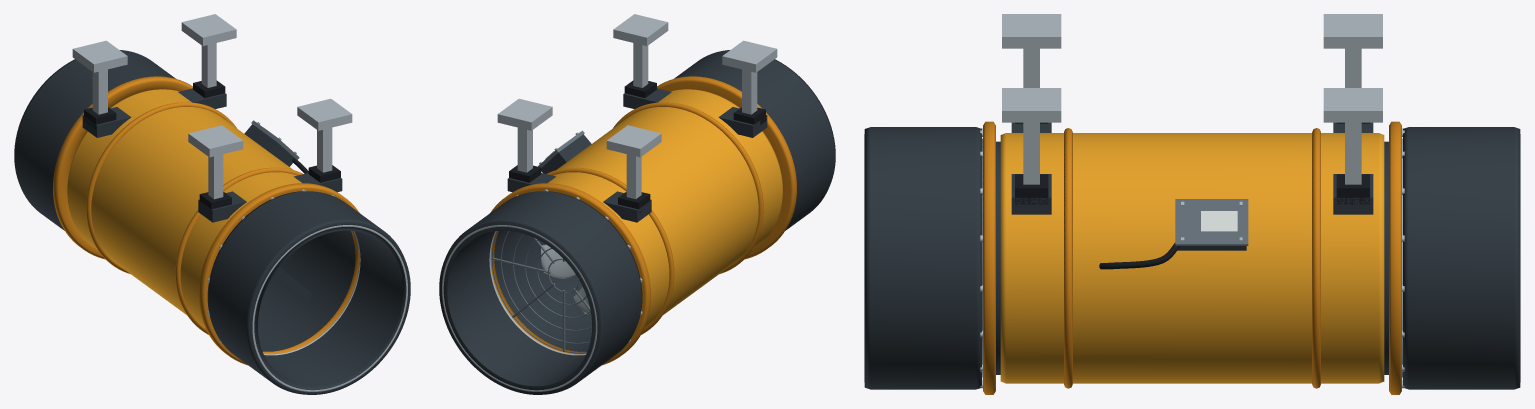
The model's file is ceiling-jet-fan.glb.
The picture shows the model from 3 angles, left to right: view 1: azimuth 30°, elevation 25°; view 2: azimuth 150°, elevation 25°; view 3: azimuth 270°, elevation 25°; orthographic projection. The views are drawn at different scales.
Parts seen in each view (by area): view 1: Tubular silencer (×2), Rolled metal body, Internal liner, Ceiling anchor plate (×4), Outlet bolted flange, Inlet bolted flange, Suspension link (×4), Circumferential stiffener (×2), Casing saddle crossbar (×2), Vibration isolator (×4), Rolled silencer rim, Terminal enclosure (+2 smaller); view 2: Tubular silencer (×2), Rolled metal body, Internal liner, Ceiling anchor plate (×4), Outlet bolted flange, Inlet bolted flange, Suspension link (×4), Circumferential stiffener (×2), Casing saddle crossbar (×2), Vibration isolator (×4), Rolled silencer rim, Terminal enclosure (+2 smaller); view 3: Rolled metal body, Tubular silencer (×2), Ceiling anchor plate (×4), Circumferential stiffener (×2), Inlet bolted flange, Outlet bolted flange, Suspension link (×4), Gasketed lid, Casing saddle crossbar (×2), Internal liner, Vibration isolator (×2), Nameplate (+1 smaller).
Boxes of the visible parts, x1,y1,x2,y2 form: Tubular silencer (×2): (14,50,410,394); Rolled metal body: (67,89,301,328); Internal liner: (258,230,355,351); Ceiling anchor plate (×4): (72,14,352,157); Outlet bolted flange: (199,183,359,365); Inlet bolted flange: (53,76,192,259); Suspension link (×4): (92,43,332,199); Circumferential stiffener (×2): (86,102,302,334); Casing saddle crossbar (×2): (82,88,342,222); Vibration isolator (×4): (84,80,340,209); Rolled silencer rim: (252,225,407,391); Terminal enclosure: (244,124,294,166); Tubular silencer (×2): (439,50,835,394); Rolled metal body: (548,89,782,328); Internal liner: (494,230,591,351); Ceiling anchor plate (×4): (497,14,777,157); Outlet bolted flange: (657,76,796,259); Inlet bolted flange: (490,183,650,365); Suspension link (×4): (517,43,757,199); Circumferential stiffener (×2): (547,102,763,334); Casing saddle crossbar (×2): (507,88,767,222); Vibration isolator (×4): (509,80,765,212); Rolled silencer rim: (442,225,597,391); Terminal enclosure: (541,134,591,173); Rolled metal body: (1000,133,1384,383); Tubular silencer (×2): (864,127,1520,389); Ceiling anchor plate (×4): (1002,14,1382,122); Circumferential stiffener (×2): (1064,128,1320,388); Inlet bolted flange: (1389,121,1401,394); Outlet bolted flange: (983,121,995,394); Suspension link (×4): (1023,48,1361,184); Gasketed lid: (1175,199,1248,245); Casing saddle crossbar (×2): (1011,122,1373,214); Internal liner: (996,141,1388,374); Vibration isolator (×2): (1015,174,1369,204); Nameplate: (1201,211,1237,231).
Bounding box in the file's own units: 1.16 × 1.49 × 2.78.
